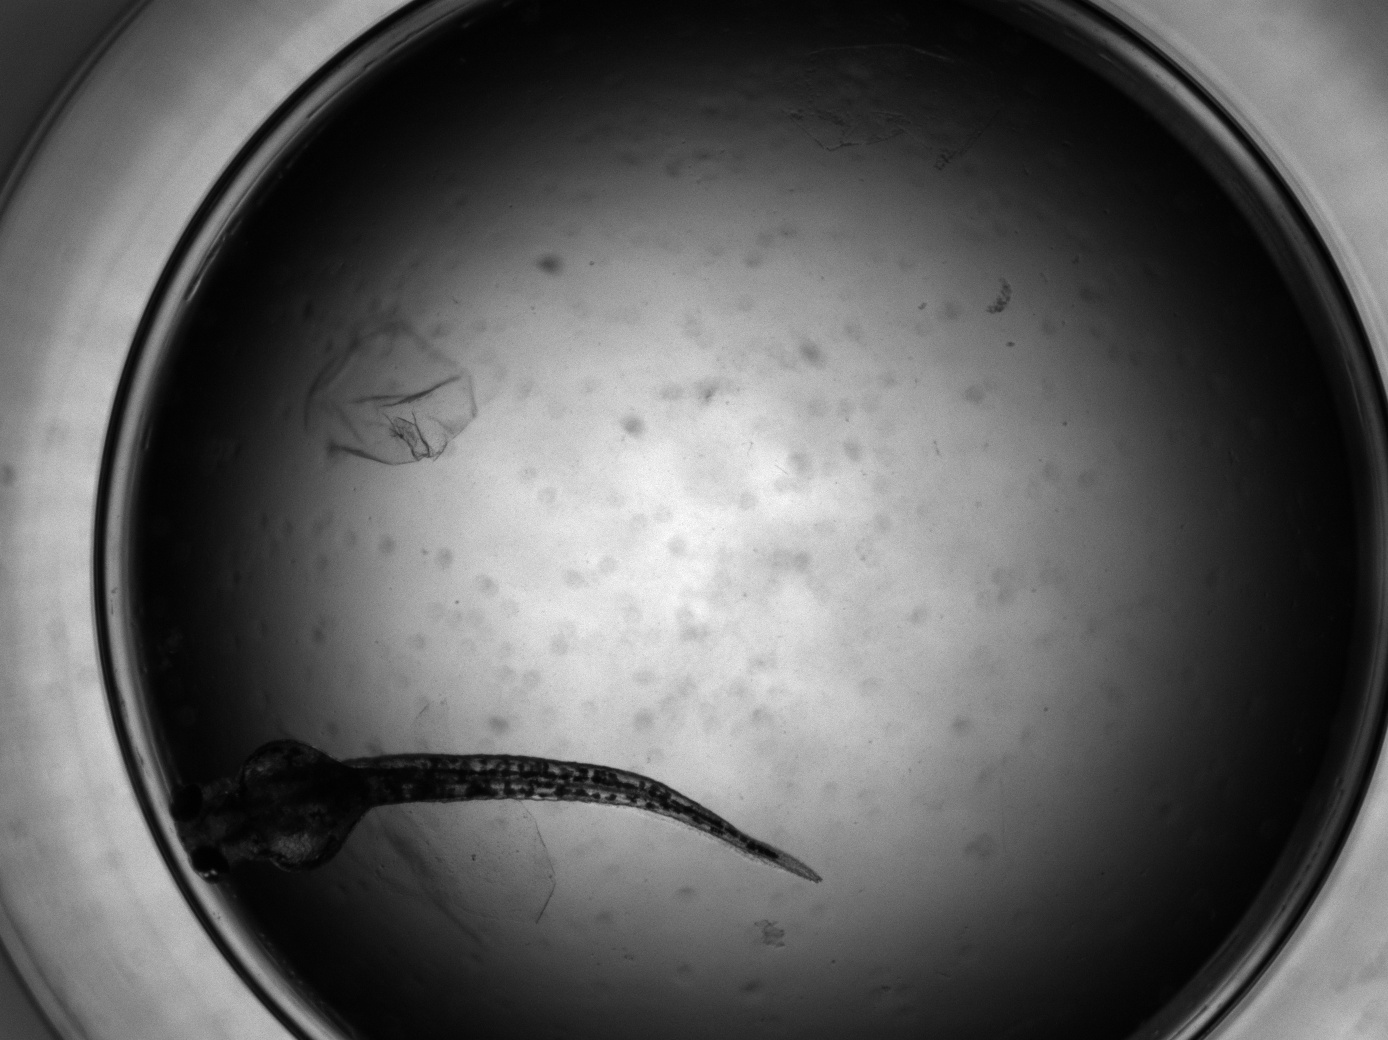debris: (304, 314, 477, 466)
embryo: (168, 738, 826, 891)
eye: (190, 846, 229, 885), (169, 783, 203, 822)
yolksac: (236, 740, 360, 874)
